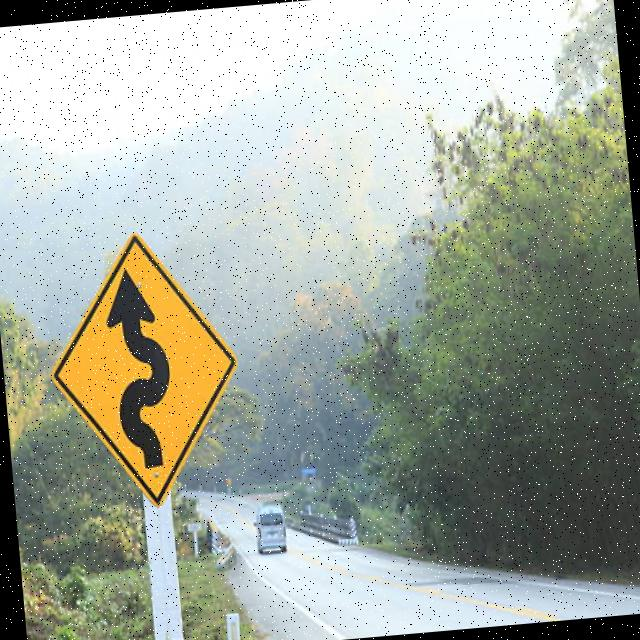left_sharp_curve: (36, 211, 254, 512)
